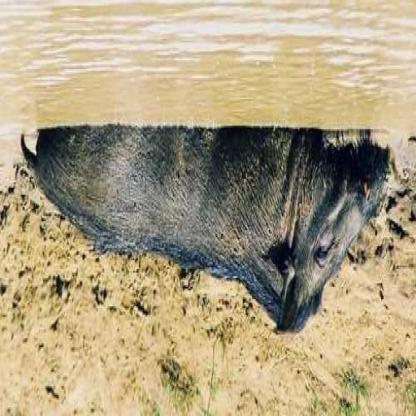boar: (55, 104, 415, 375)
